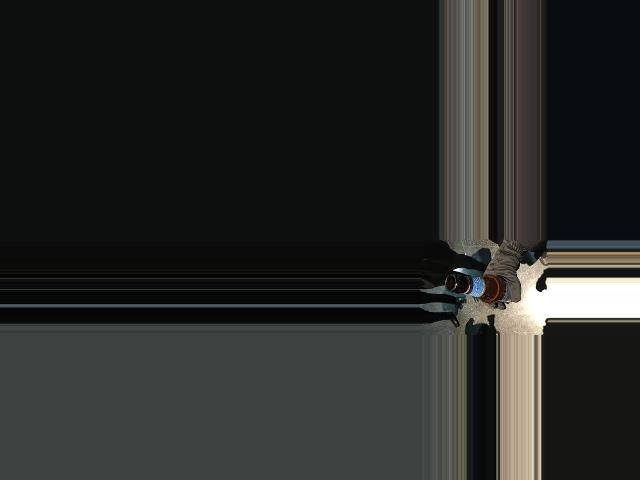beer: (445, 273, 516, 305)
